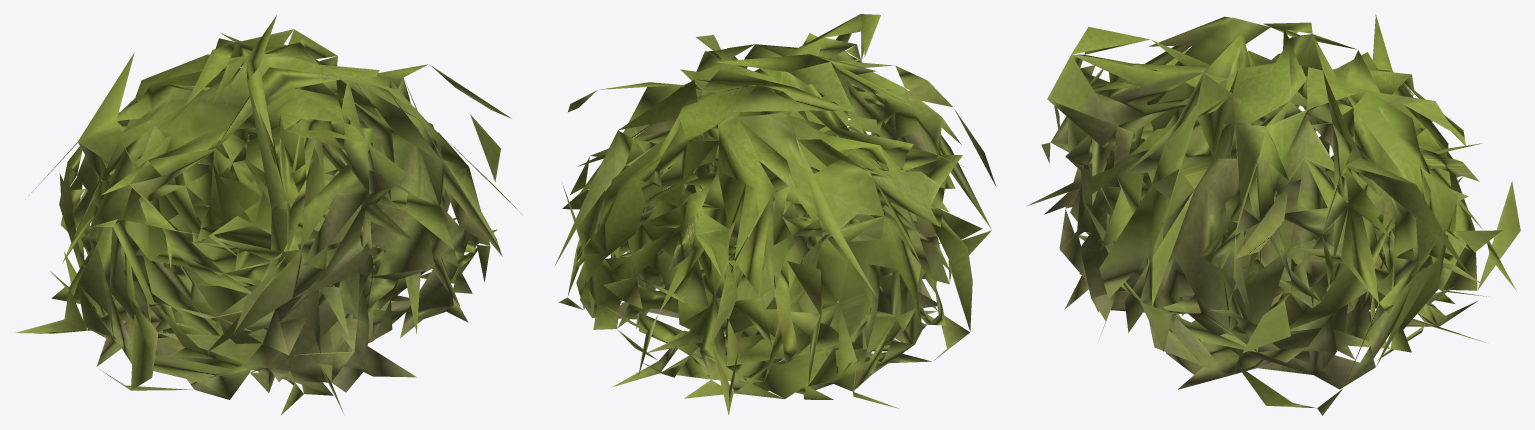
File: Part_FiberStrand.glb
3 renders of one model, left to right at view 1: azimuth 30°, elevation 25°; view 2: azimuth 150°, elevation 25°; view 3: azimuth 270°, elevation 25°, orthographic. The views are drawn at different scales.
Bounding box in the file's own units: 1.67 × 1.11 × 1.66.
1 material, 1 textured.
